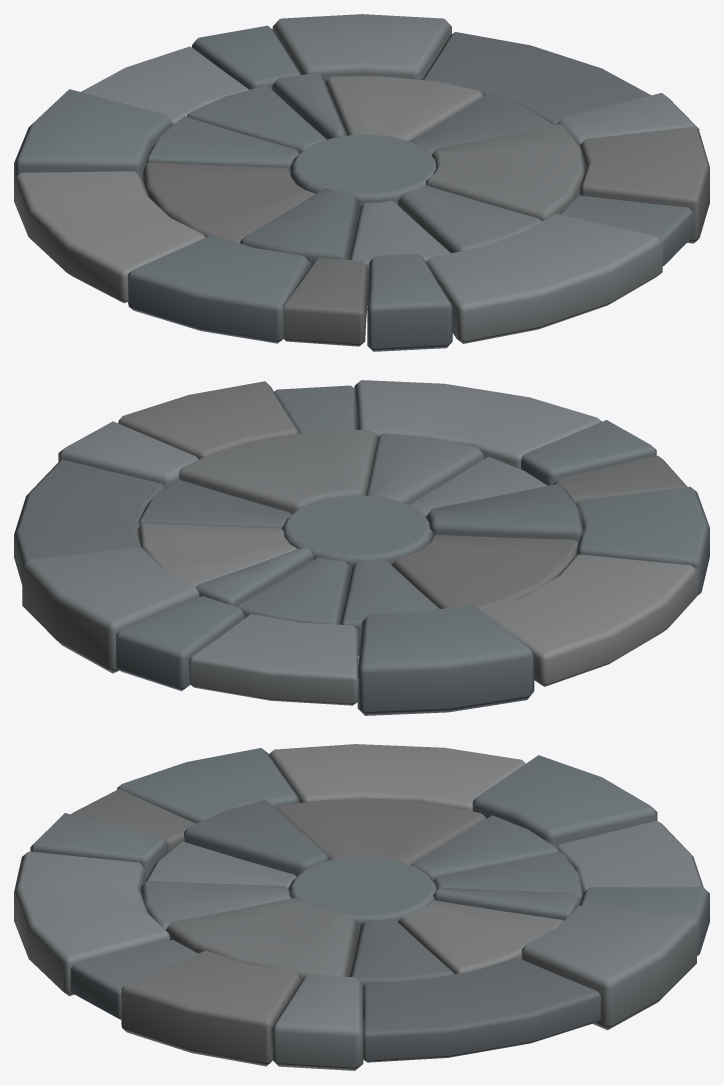
Rendered from obstacle_8_001.glb.
3 views of the same model, one above another, from view 1: azimuth 30°, elevation 25°; view 2: azimuth 150°, elevation 25°; view 3: azimuth 270°, elevation 25° (orthographic).
Parts seen in each view (by area): view 1: obstacle_8_001; view 2: obstacle_8_001; view 3: obstacle_8_001.
Part boxes in pixels (x1,y1,x2,y2): obstacle_8_001: (14,14,709,351); obstacle_8_001: (14,380,709,715); obstacle_8_001: (14,744,709,1070).
Bounding box in the file's own units: 9.19 × 0.7725 × 9.22.
1 material, 1 textured.
